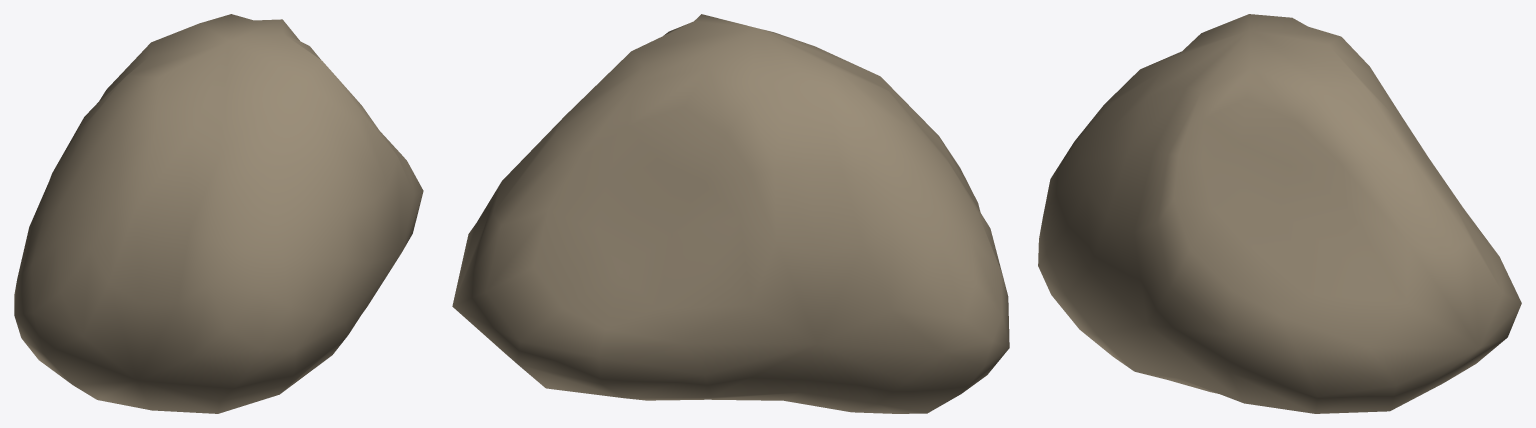
The model's file is rock01.fbx.
The picture shows the model from 3 angles, left to right: view 1: azimuth 30°, elevation 25°; view 2: azimuth 150°, elevation 25°; view 3: azimuth 270°, elevation 25°; orthographic projection. The views are drawn at different scales.
Visible parts, largest first — view 1: rock.002; view 2: rock.002; view 3: rock.002.
Part boxes in pixels (left/top/right/bottom): rock.002: left=14, top=14, right=423, bottom=413; rock.002: left=452, top=14, right=1009, bottom=413; rock.002: left=1038, top=14, right=1521, bottom=413.
Bounding box in the file's own units: 0.7432 × 0.5511 × 0.688.
